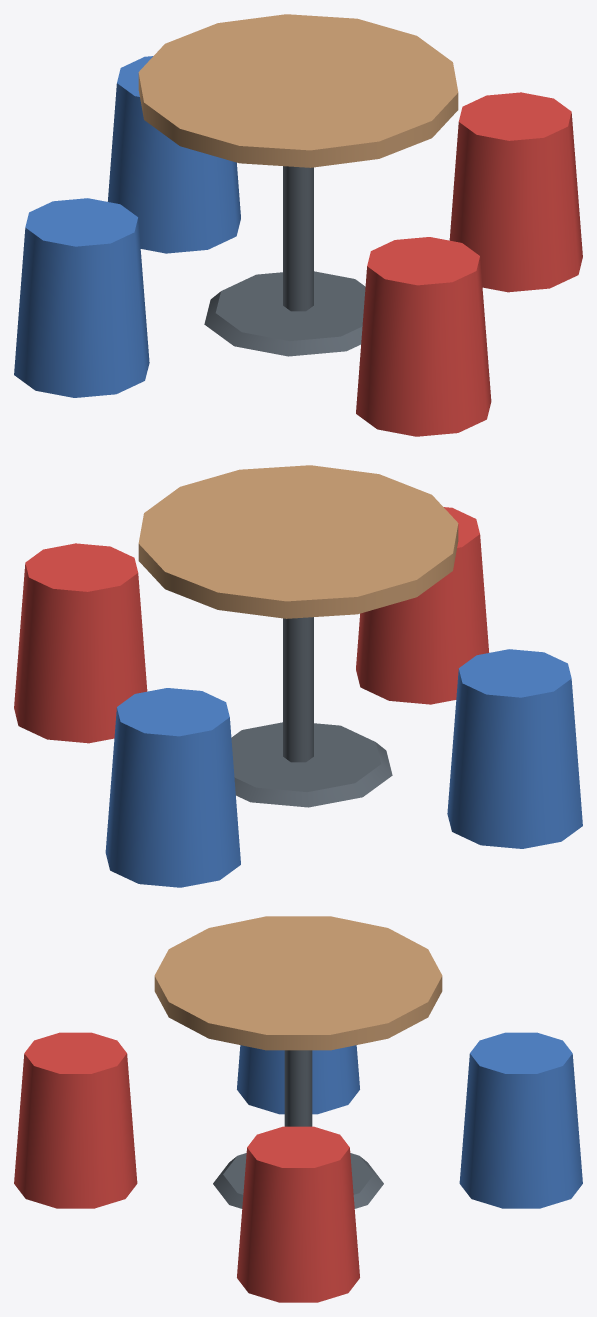
The model's file is table-set-01.glb.
3 renders of one model, top to bottom at view 1: azimuth 30°, elevation 25°; view 2: azimuth 150°, elevation 25°; view 3: azimuth 270°, elevation 25°, orthographic. The views are drawn at different scales.
Visible parts, largest first — view 1: TableSet; view 2: TableSet; view 3: TableSet.
Boxes of the visible parts, left/top/right/bottom form: TableSet: left=14, top=14, right=582, bottom=436; TableSet: left=14, top=465, right=582, bottom=887; TableSet: left=14, top=916, right=582, bottom=1302.
Size of the model in its own units: 1.64 by 0.67 by 1.66.
